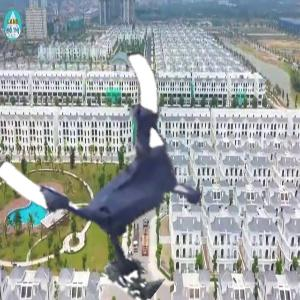drone: (21, 62, 228, 269)
